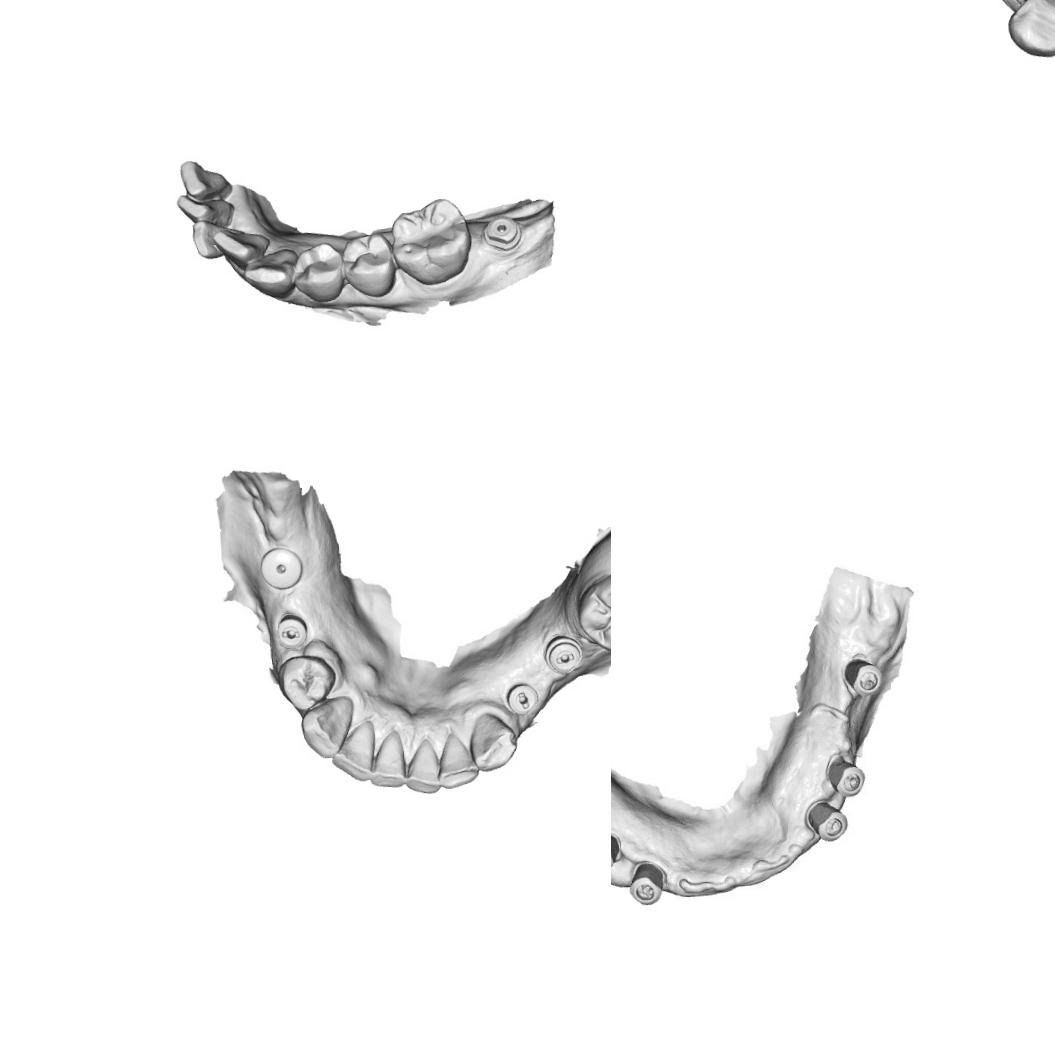canine: (293, 696, 360, 762), (237, 246, 302, 302), (466, 708, 519, 773), (1003, 0, 1055, 60)
implant: (254, 540, 310, 594), (478, 210, 524, 254), (825, 757, 869, 800), (842, 656, 884, 700), (808, 800, 848, 846), (627, 864, 666, 907), (611, 830, 622, 872)
implant_minus: (542, 628, 585, 677), (268, 604, 310, 649), (501, 678, 542, 719)
incisor: (326, 721, 384, 785), (364, 726, 414, 791), (210, 219, 274, 268), (432, 728, 481, 792), (397, 735, 448, 795), (190, 215, 248, 260), (174, 185, 236, 226), (176, 157, 232, 202)
molar: (384, 195, 476, 288), (572, 570, 611, 655)
premolar: (338, 229, 400, 300), (291, 239, 348, 308), (274, 652, 338, 711)
